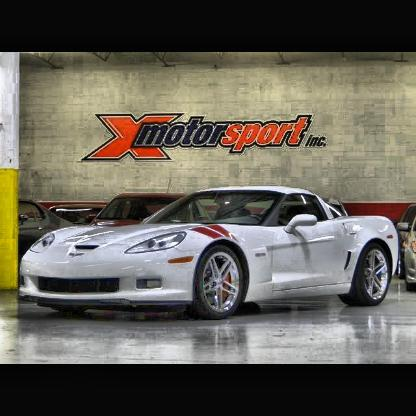Chevrolet Corvette Ron Fellows Edition Z06 2007: (20, 190, 403, 319)
